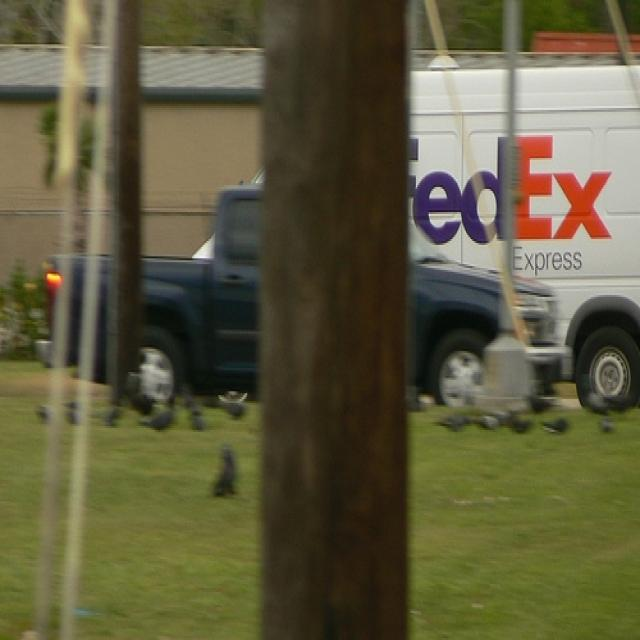fedex: (410, 125, 621, 260)
